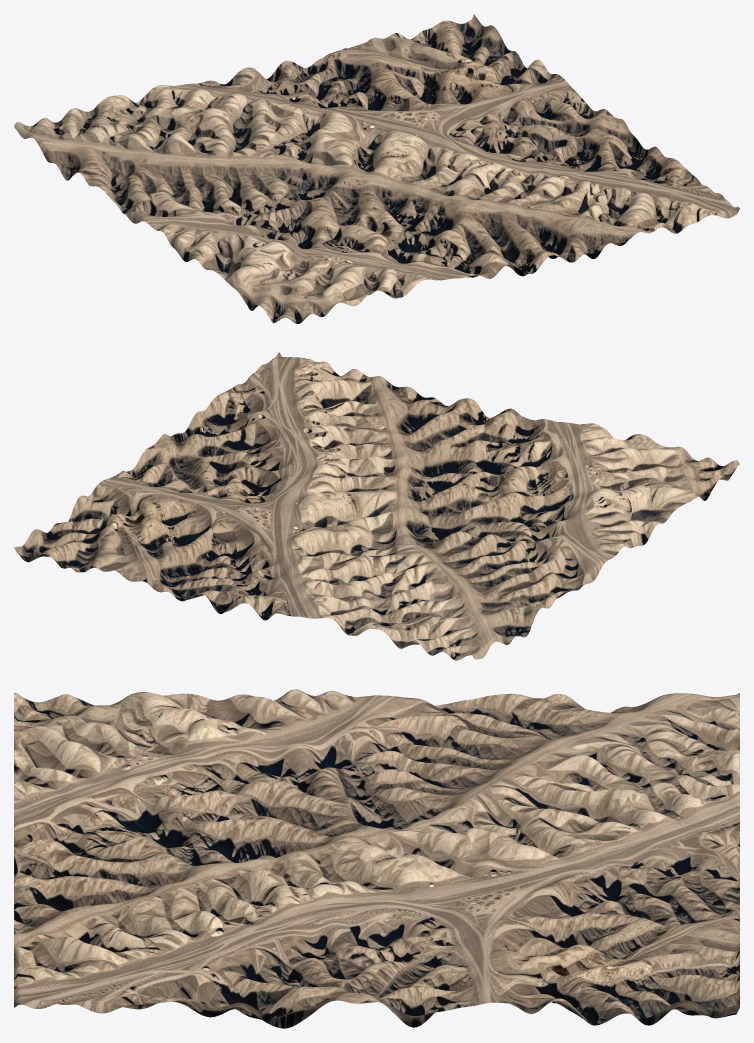
The model's file is terrain.glb.
The picture shows the model from 3 angles, top to bottom: view 1: azimuth 30°, elevation 25°; view 2: azimuth 150°, elevation 25°; view 3: azimuth 270°, elevation 25°; orthographic projection. The views are drawn at different scales.
Visible parts, largest first — view 1: Grid; view 2: Grid; view 3: Grid.
Part boxes in pixels (x1,y1,x2,y2): Grid: (14,14,739,323); Grid: (14,352,739,660); Grid: (14,689,739,1028).
Bounding box in the file's own units: 10 × 0.6706 × 10.
Materials: 1 (1 with a texture image).
